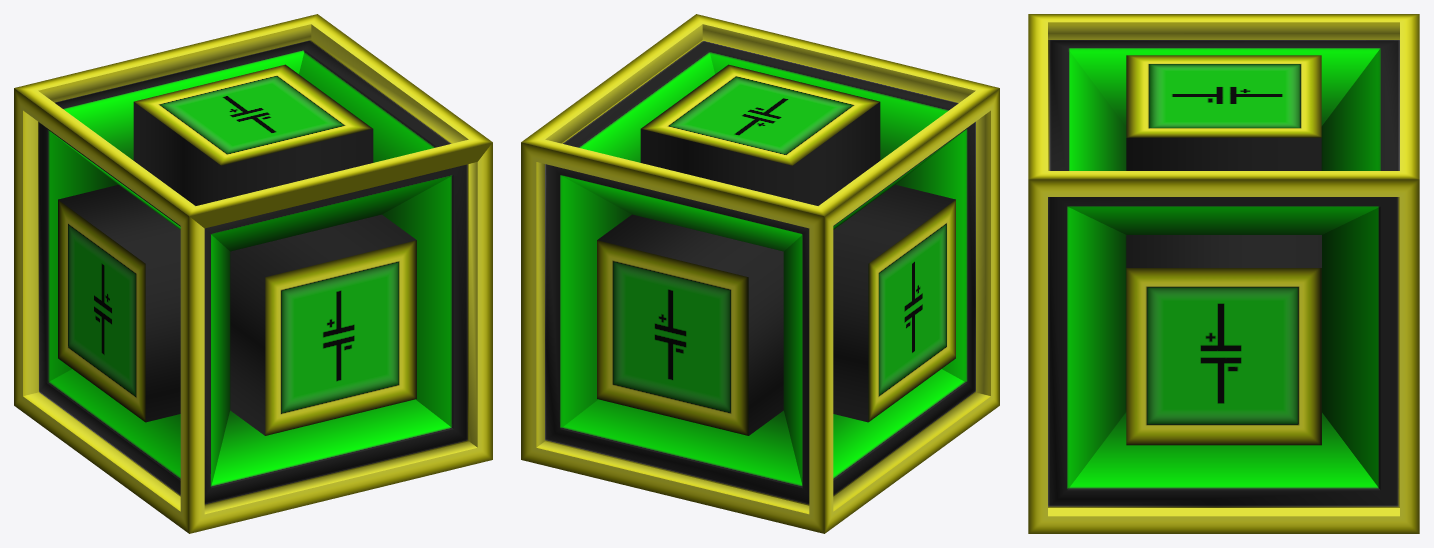
The model's file is infinite_capacitor.obj.
The picture shows the model from 3 angles, left to right: view 1: azimuth 30°, elevation 25°; view 2: azimuth 150°, elevation 25°; view 3: azimuth 270°, elevation 25°; orthographic projection. The views are drawn at different scales.
Visible parts, largest first — view 1: Cube.002; view 2: Cube.002; view 3: Cube.002.
Boxes of the visible parts, x1=… form: Cube.002: x1=14, y1=14, x2=492, y2=533; Cube.002: x1=521, y1=14, x2=999, y2=533; Cube.002: x1=1028, y1=14, x2=1419, y2=533.
Size of the model in its own units: 1 by 1 by 1.
